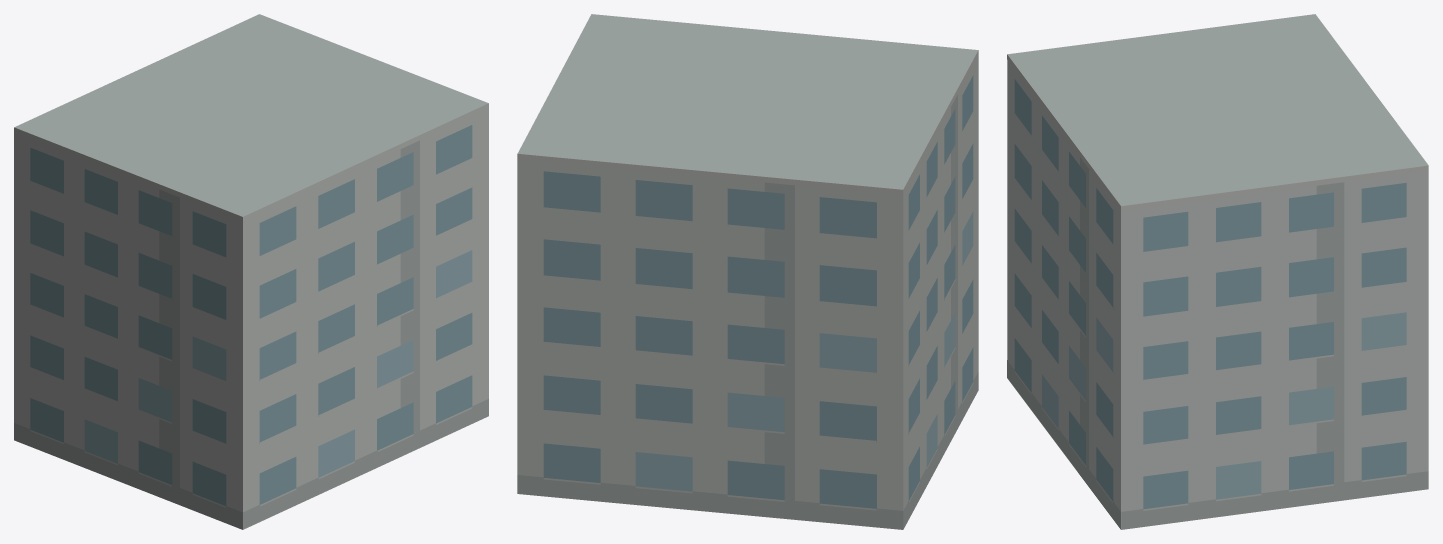
The model's file is survey-upis-32622921.glb.
The picture shows the model from 3 angles, left to right: view 1: azimuth 30°, elevation 25°; view 2: azimuth 150°, elevation 25°; view 3: azimuth 270°, elevation 25°; orthographic projection. The views are drawn at different scales.
Parts seen in each view (by area): view 1: survey-upis-32622921.tmp; view 2: survey-upis-32622921.tmp; view 3: survey-upis-32622921.tmp.
Boxes of the visible parts, bbox=[...] form: survey-upis-32622921.tmp: bbox=[14, 14, 488, 529]; survey-upis-32622921.tmp: bbox=[517, 14, 978, 529]; survey-upis-32622921.tmp: bbox=[1007, 14, 1428, 529].
Size of the model in its own units: 18.47 by 14.5 by 17.13.
